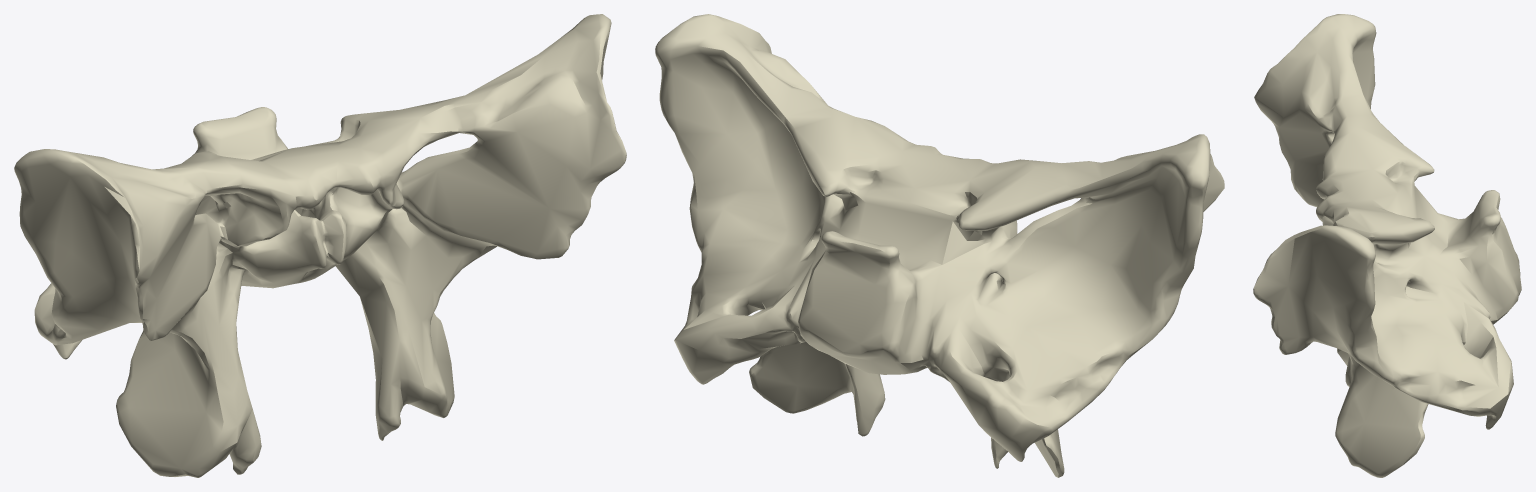
Rendered from sphenoid.glb.
3 renders of one model, left to right at view 1: azimuth 30°, elevation 25°; view 2: azimuth 150°, elevation 25°; view 3: azimuth 270°, elevation 25°, orthographic. The views are drawn at different scales.
Visible parts, largest first — view 1: grp1; view 2: grp1; view 3: grp1.
Part boxes in pixels (left/top/right/bottom): grp1: left=14, top=14, right=626, bottom=477; grp1: left=655, top=14, right=1224, bottom=477; grp1: left=1253, top=14, right=1521, bottom=477.
Size of the model in its own units: 0.1114 by 0.0696 by 0.0546.
